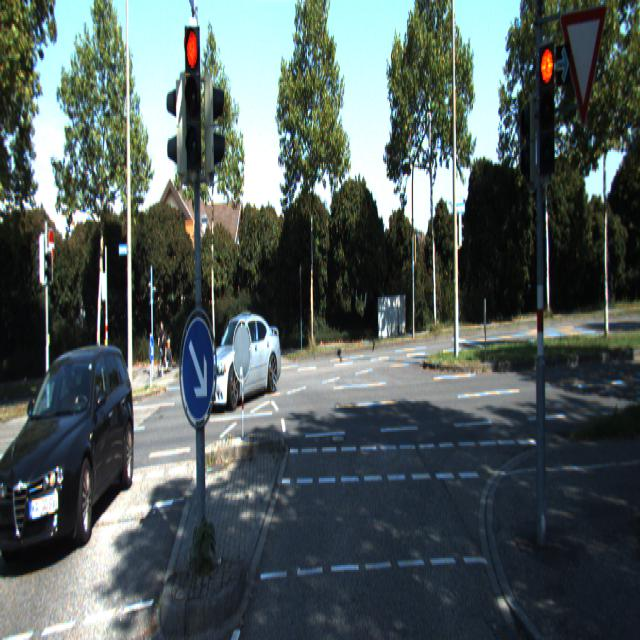Car: (0, 335, 140, 571), (196, 310, 284, 416)
